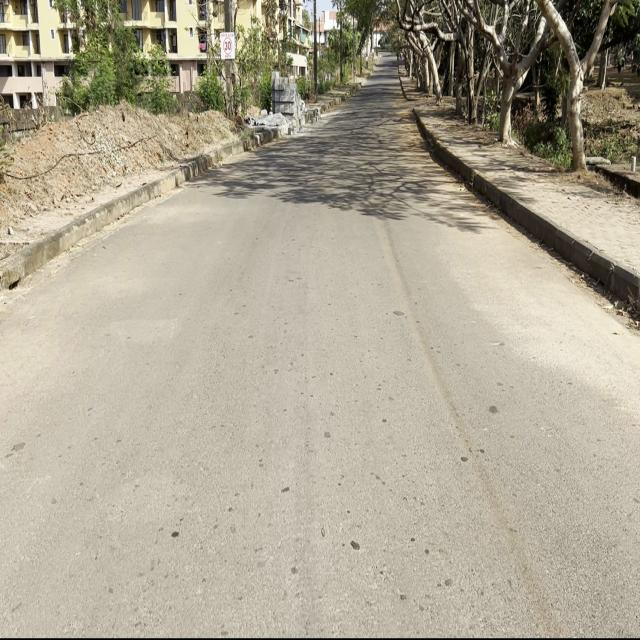Road: (0, 62, 640, 637)
